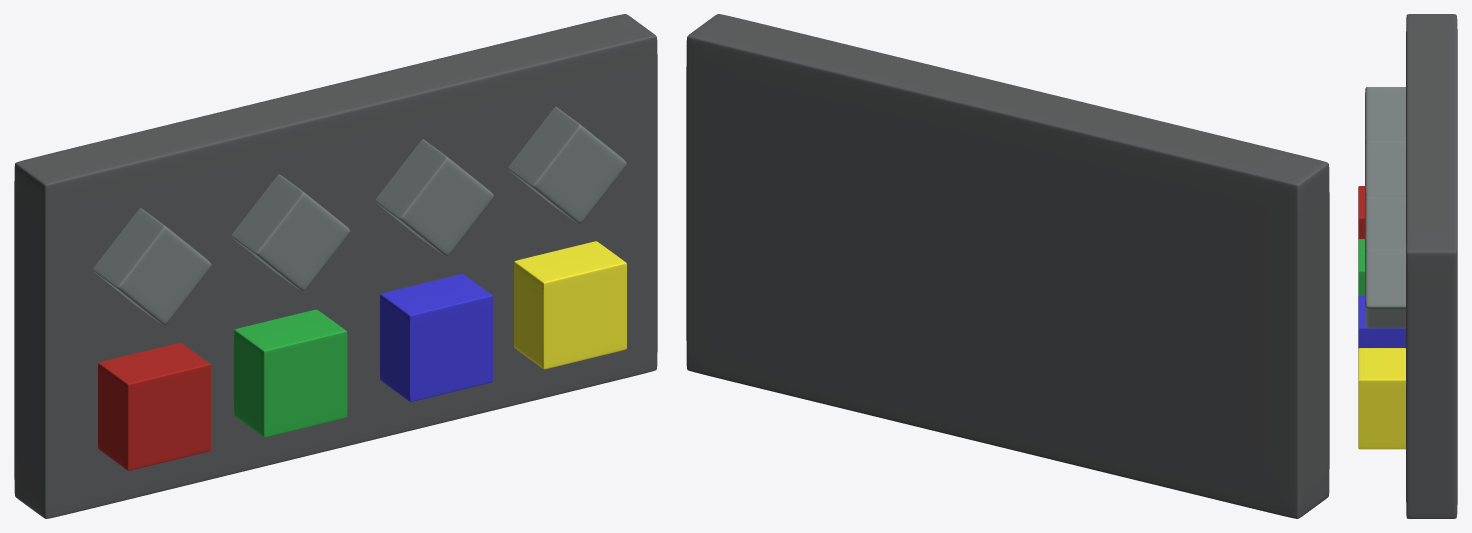
Rendered from PuzzleColor3D.fbx.
3 renders of one model, left to right at view 1: azimuth 30°, elevation 25°; view 2: azimuth 150°, elevation 25°; view 3: azimuth 270°, elevation 25°, orthographic. The views are drawn at different scales.
Parts seen in each view (by area): view 1: Paret, Cube_02, Cube_04, Cube_01, Cube_03, Rombe_03, Rombe_02, Rombe_04, Rombe_01; view 2: Paret; view 3: Paret, Cube_04, Rombe_04, Rombe_02, Rombe_01, Rombe_03, Cube_03, Cube_02, Cube_01.
Part boxes in pixels (box(x1,y1,x2,y2)): Paret: box(14, 14, 657, 518); Cube_02: box(234, 309, 347, 437); Cube_04: box(514, 241, 626, 369); Cube_01: box(98, 342, 210, 470); Cube_03: box(380, 274, 492, 401); Rombe_03: box(375, 139, 493, 255); Rombe_02: box(231, 174, 349, 290); Rombe_04: box(507, 107, 626, 223); Rombe_01: box(92, 208, 211, 324); Paret: box(686, 14, 1329, 518); Paret: box(1406, 14, 1457, 518); Cube_04: box(1358, 348, 1405, 449); Rombe_04: box(1365, 248, 1405, 328); Rombe_02: box(1365, 141, 1405, 201); Rombe_01: box(1365, 87, 1405, 145); Rombe_03: box(1365, 197, 1405, 253); Cube_03: box(1358, 296, 1405, 348); Cube_02: box(1358, 239, 1364, 296); Cube_01: box(1358, 186, 1364, 239).
Size of the model in its own units: 393 by 206 by 69.09.
